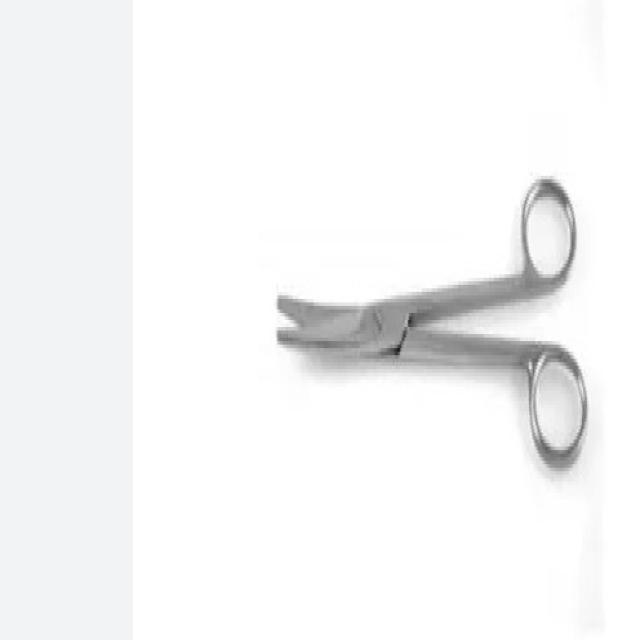Curved Mayo: (274, 166, 596, 482)
